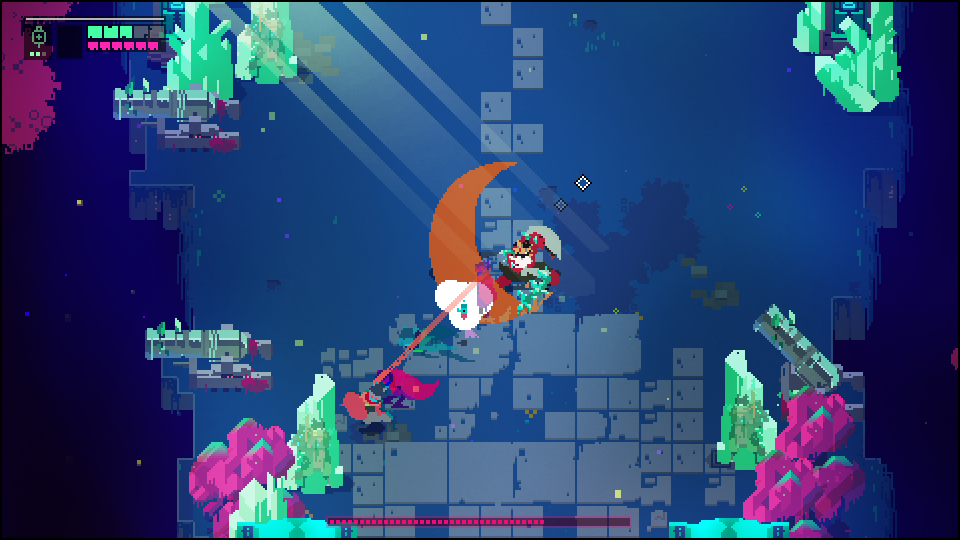hanged_man: (475, 217, 565, 326)
player: (340, 384, 393, 438)
